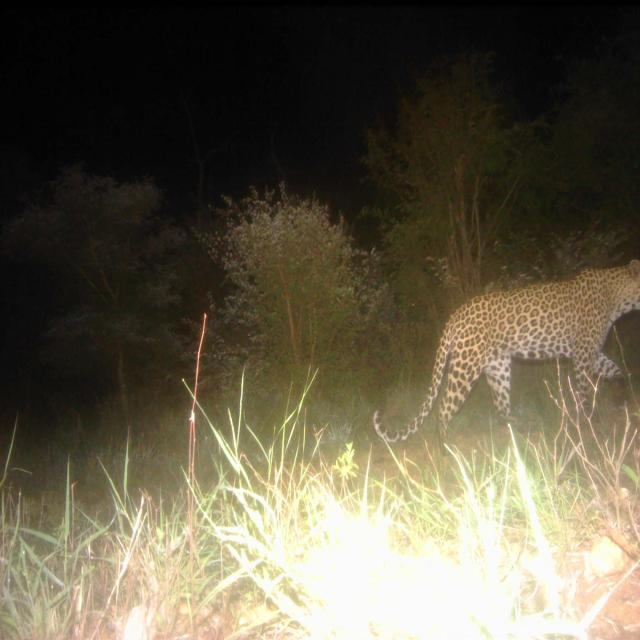Leopard: (385, 254, 640, 461)
